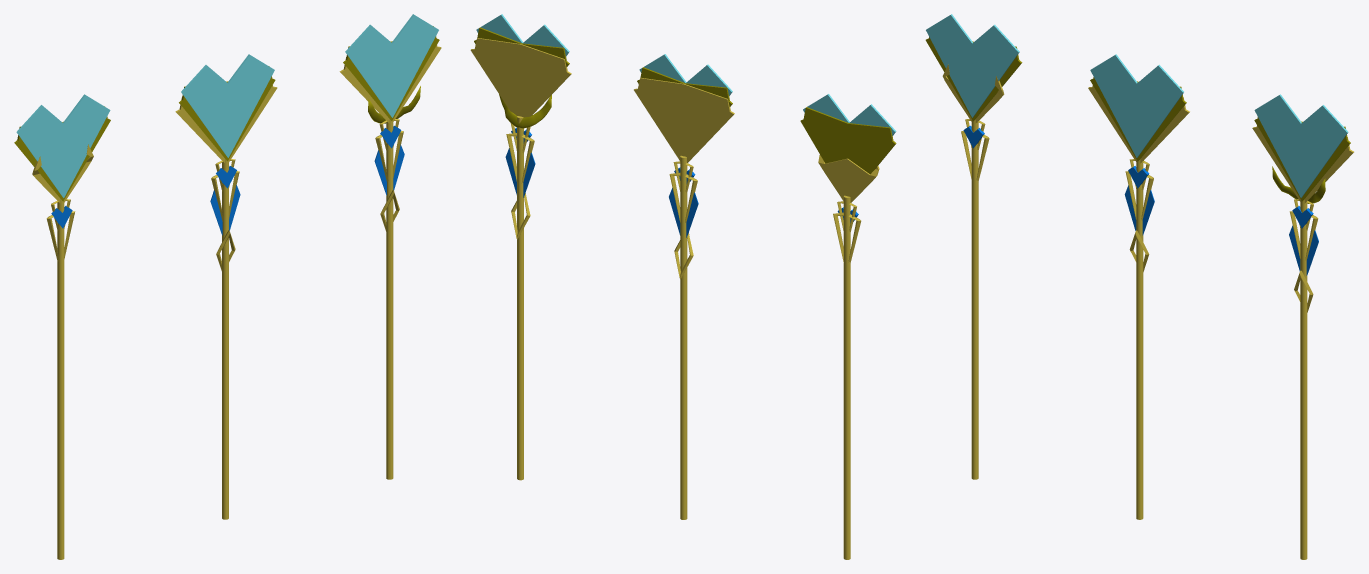
File: Wand.fbx
3 views of the same model, side by side, from view 1: azimuth 30°, elevation 25°; view 2: azimuth 150°, elevation 25°; view 3: azimuth 330°, elevation 25° (orthographic).
Parts seen in each view (by area): view 1: Cube.009, Cube.004, Cube, Cylinder.000, Cylinder.002, Cylinder.001, Cube.007, Cube.011, Cube.010, Cube.008, Cube.001, Cube.002; view 2: Cube.007, Cube.011, Cube.001, Cylinder.000, Cylinder.001, Cylinder.002, Cube.002, Cube, Cube.009, Cube.004, Cube.008, Cube.010 (+1 smaller); view 3: Cube.004, Cube.009, Cube, Cylinder.000, Cylinder.002, Cylinder.001, Cube.007, Cube.011, Cube.010, Cube.008, Cube.001, Cube.002.
Boxes of the visible parts, box(x1,y1,x2,y2) form: Cube.009: box(181, 54, 274, 157); Cube.004: box(345, 14, 438, 117); Cube: box(16, 94, 110, 197); Cylinder.000: box(57, 199, 64, 559); Cylinder.002: box(386, 119, 393, 479); Cylinder.001: box(222, 159, 228, 519); Cube.007: box(175, 81, 277, 162); Cube.011: box(339, 41, 441, 122); Cube.010: box(343, 26, 439, 120); Cube.008: box(179, 66, 275, 161); Cube.001: box(14, 106, 110, 201); Cube.002: box(32, 144, 93, 202); Cube.007: box(634, 77, 734, 162); Cube.011: box(470, 38, 571, 117); Cube.001: box(800, 107, 896, 174); Cylinder.000: box(843, 195, 850, 559); Cylinder.001: box(680, 155, 687, 519); Cylinder.002: box(517, 116, 523, 480); Cube.002: box(818, 155, 879, 202); Cube: box(803, 94, 896, 135); Cube.009: box(639, 54, 732, 95); Cube.004: box(476, 14, 569, 56); Cube.008: box(637, 67, 732, 106); Cube.010: box(474, 27, 569, 66); Cube.004: box(1254, 94, 1348, 197); Cube.009: box(1090, 54, 1183, 157); Cube: box(926, 14, 1019, 117); Cylinder.000: box(971, 119, 978, 479); Cylinder.002: box(1300, 199, 1307, 559); Cylinder.001: box(1136, 159, 1143, 519); Cube.007: box(1088, 81, 1189, 163); Cube.011: box(1252, 121, 1353, 203); Cube.010: box(1254, 117, 1350, 201); Cube.008: box(1090, 77, 1186, 161); Cube.001: box(925, 37, 1022, 121); Cube.002: box(942, 64, 1004, 123).
Size of the model in its own units: 894 by 921 by 34.12.
